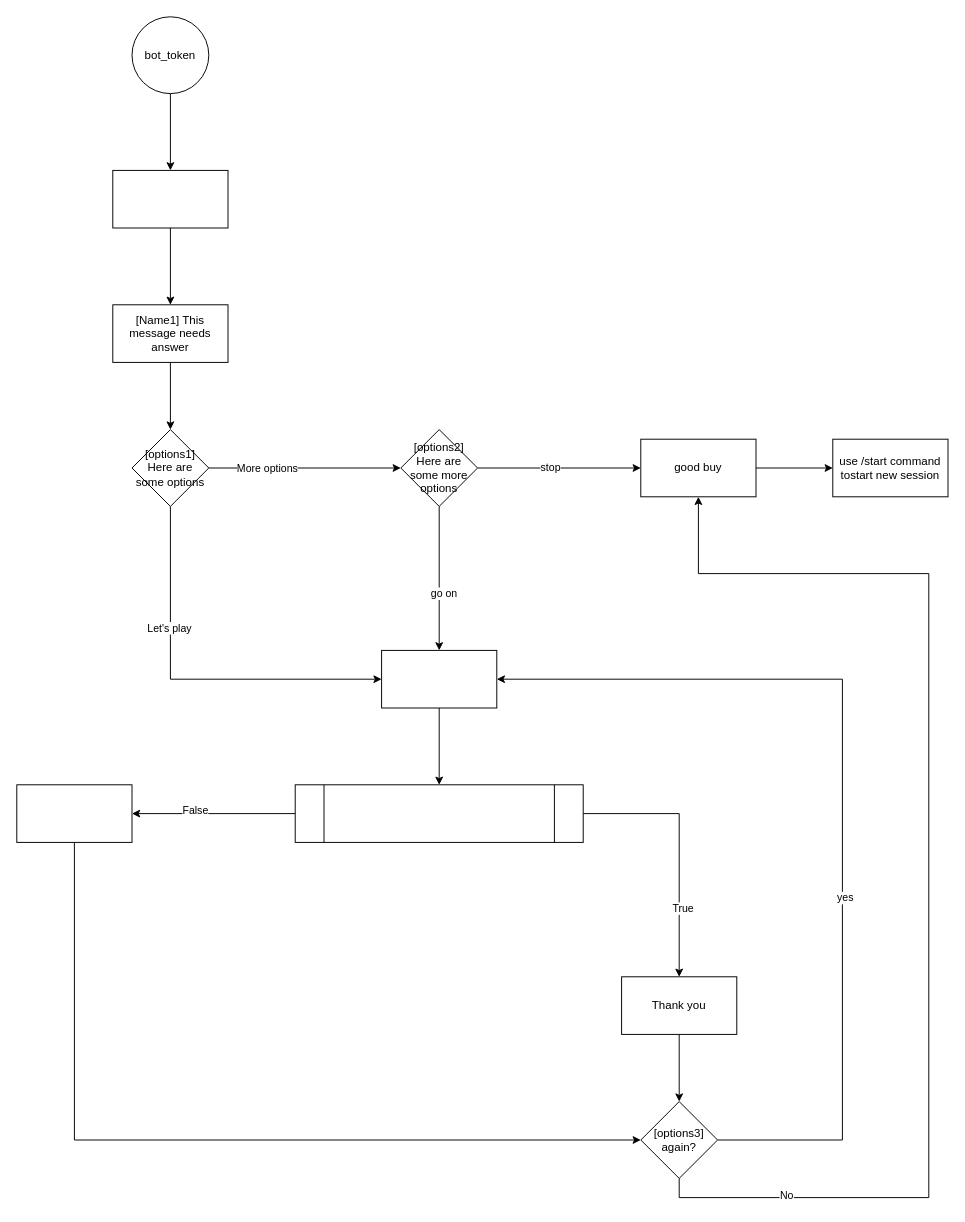
The diagram is 965 pixels wide and 1222 high, and some of its shapes have lost their labels. The box of each missing label's shape, as (x1, y1, x2, y2) in pixels:
[Name2] write "yes": (381, 649, 497, 708)
_functions_standardfuncs::contains(Name2, "yes"): (294, 784, 583, 842)
Here is a message: (112, 169, 228, 228)
There was no "yes" in your message: (16, 784, 132, 842)
